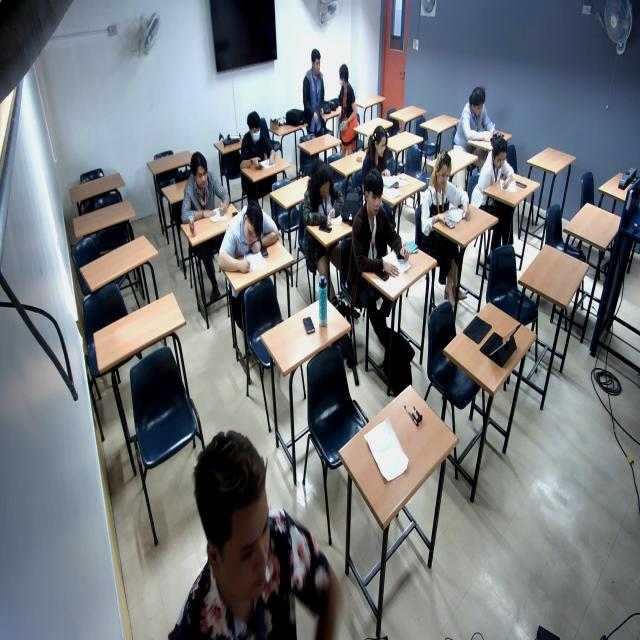read: (359, 183, 416, 288), (418, 153, 477, 239), (215, 217, 282, 279), (303, 167, 352, 241), (182, 160, 234, 227), (368, 125, 414, 194), (481, 140, 525, 199), (240, 114, 282, 171), (461, 86, 501, 144)
